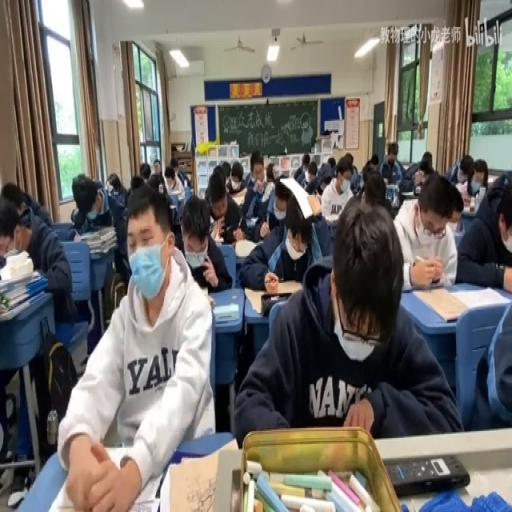calculator: (44, 444, 158, 509), (163, 439, 240, 512), (242, 282, 302, 314), (450, 284, 508, 312), (0, 286, 46, 320), (0, 266, 38, 291), (402, 278, 448, 294), (78, 226, 112, 243), (213, 302, 239, 322), (234, 238, 257, 258), (306, 193, 322, 215), (228, 189, 246, 205), (89, 246, 114, 257), (324, 213, 341, 225), (386, 183, 395, 202), (460, 202, 474, 212), (206, 294, 216, 308), (246, 215, 258, 226), (211, 234, 223, 244), (400, 191, 414, 199), (169, 203, 176, 209)
paper: (234, 198, 456, 445), (0, 183, 74, 473), (454, 176, 512, 289), (180, 192, 230, 292), (320, 153, 357, 222), (69, 171, 110, 233), (242, 162, 276, 235), (106, 184, 131, 278), (398, 151, 432, 193), (446, 154, 480, 194), (18, 188, 52, 228), (0, 208, 26, 258), (378, 141, 402, 185), (361, 169, 387, 208), (168, 154, 190, 189), (0, 180, 25, 210), (203, 165, 225, 198), (292, 152, 310, 185), (488, 172, 510, 194), (249, 150, 264, 176), (148, 171, 166, 192), (349, 165, 362, 193), (106, 173, 122, 195), (448, 201, 462, 226), (316, 176, 330, 196), (272, 192, 285, 213), (266, 160, 278, 180), (138, 161, 150, 179), (230, 168, 242, 186), (130, 174, 144, 189), (420, 164, 434, 179), (219, 159, 230, 178), (344, 151, 354, 168), (362, 162, 373, 176), (307, 164, 317, 179), (327, 156, 336, 170), (370, 154, 378, 168), (153, 164, 160, 174)
person: (386, 452, 470, 496), (221, 224, 233, 242)
